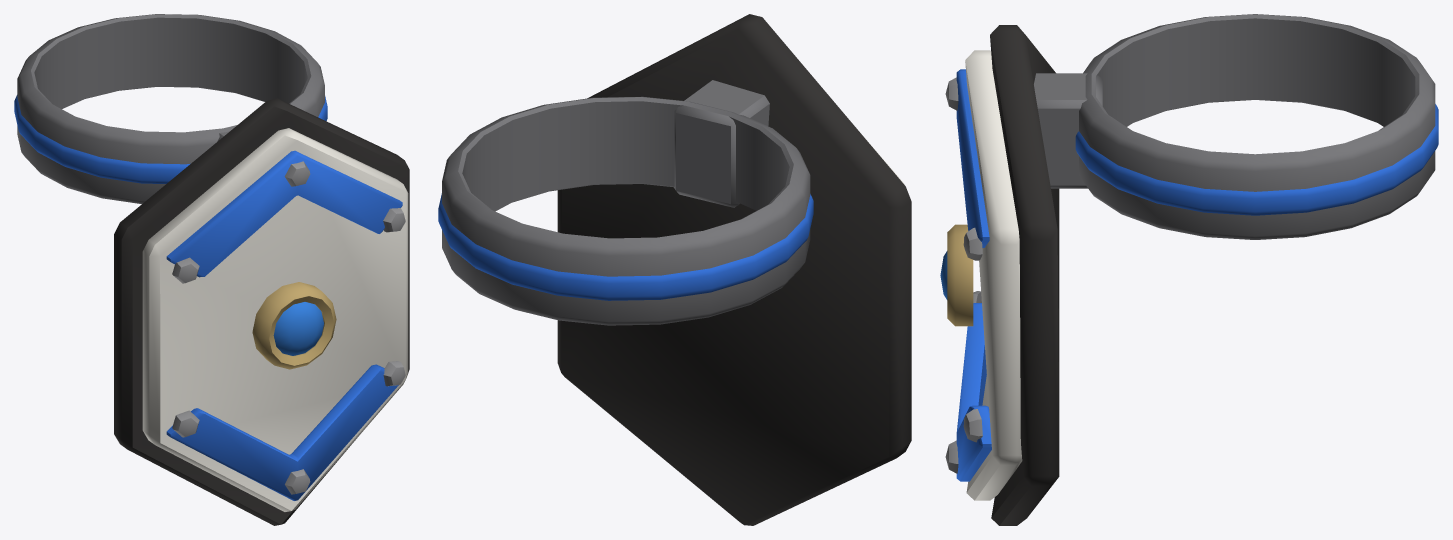
File: Kit_Deco_ProPanel_S.glb
The picture shows the model from 3 angles, left to right: view 1: azimuth 30°, elevation 25°; view 2: azimuth 150°, elevation 25°; view 3: azimuth 270°, elevation 25°; orthographic projection. The views are drawn at different scales.
Visible parts, largest first — view 1: Kit_Deco_ProPanel_S; view 2: Kit_Deco_ProPanel_S; view 3: Kit_Deco_ProPanel_S.
Boxes of the visible parts, x1,y1,x2,y2 form: Kit_Deco_ProPanel_S: (14, 14, 409, 525); Kit_Deco_ProPanel_S: (438, 14, 911, 525); Kit_Deco_ProPanel_S: (940, 14, 1438, 525).
Size of the model in its own units: 0.1758 by 0.2448 by 0.2233.
